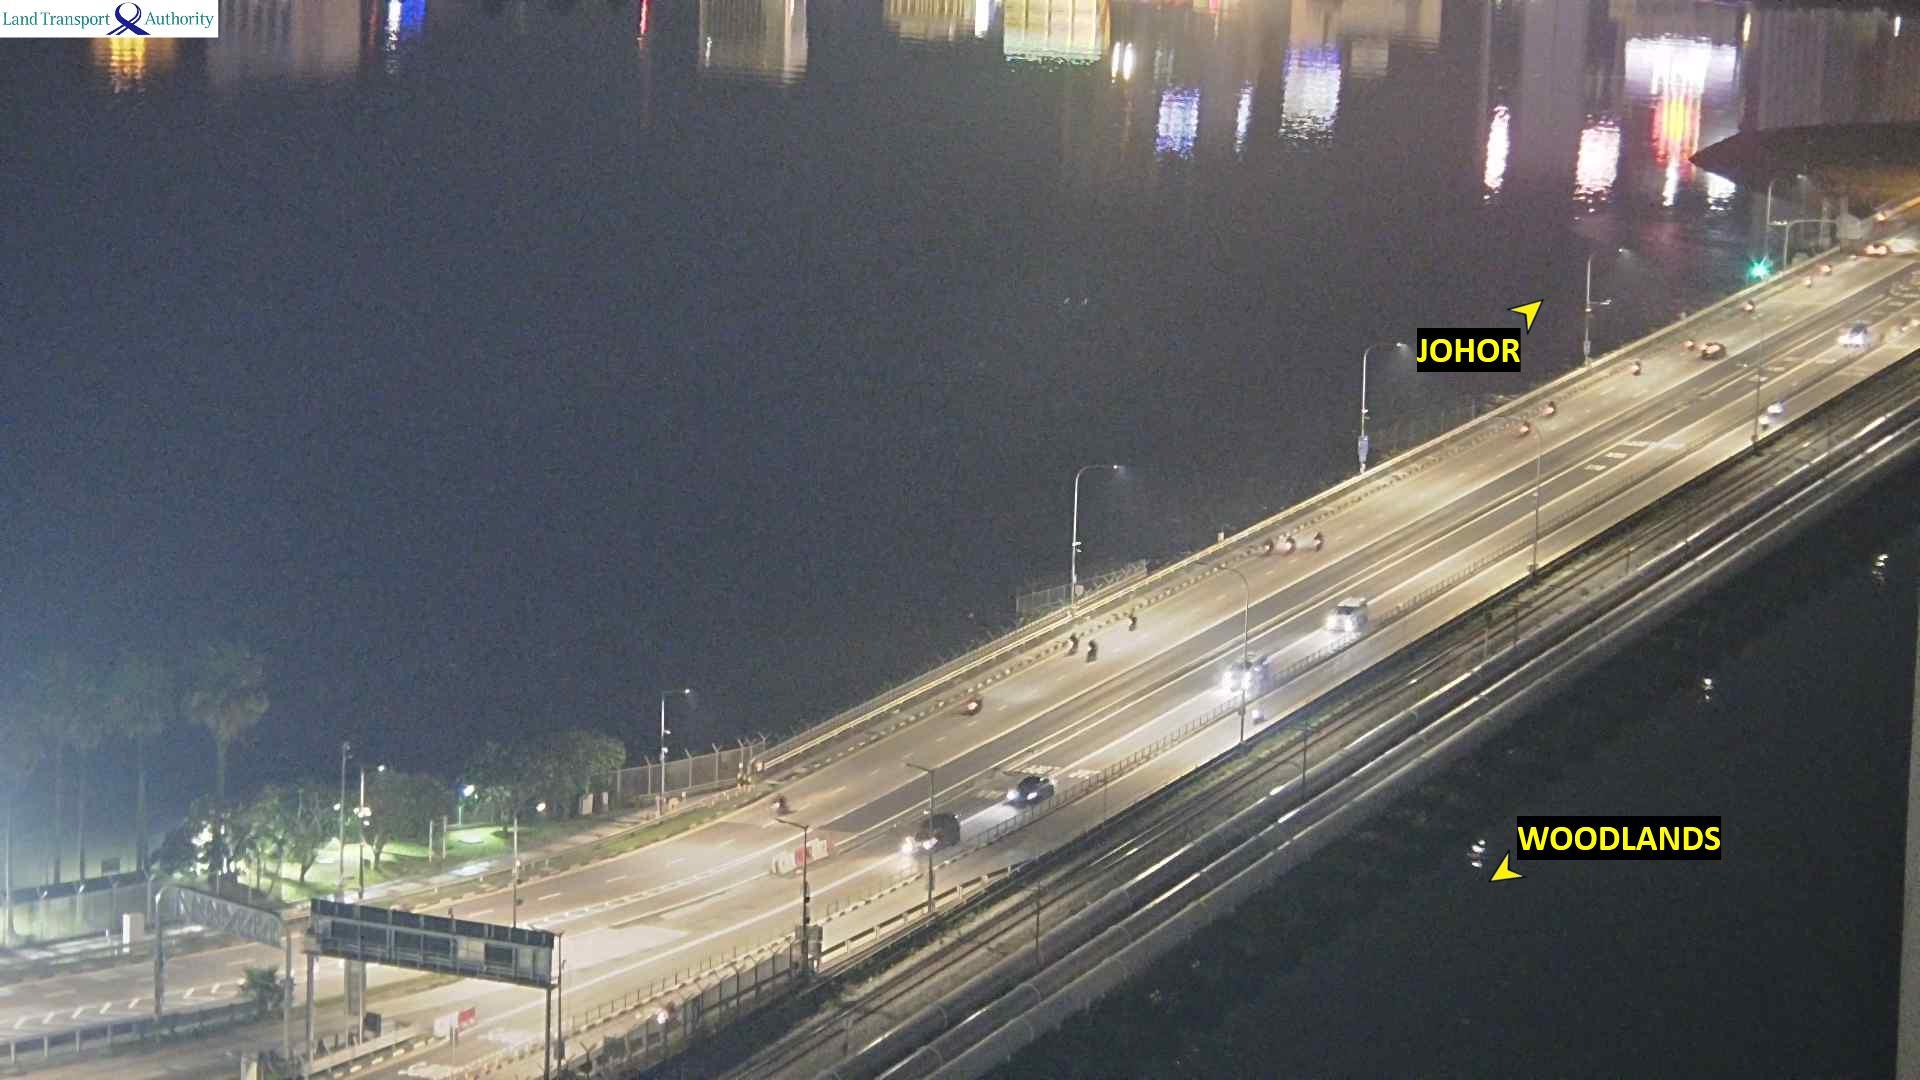vehicle-causeway-johor: (1702, 342, 1727, 357), (967, 695, 984, 716), (774, 794, 791, 814), (1064, 634, 1080, 654), (1865, 243, 1887, 256), (1543, 400, 1557, 418), (1284, 535, 1298, 554), (1088, 638, 1098, 661), (1126, 613, 1138, 632), (1312, 531, 1324, 549), (1801, 273, 1813, 290), (1520, 419, 1531, 435), (1631, 360, 1642, 376), (1745, 299, 1756, 313), (1822, 264, 1834, 276), (1683, 339, 1693, 351), (1266, 538, 1274, 553)
vehicle-causeway-singapore: (906, 815, 960, 853), (1221, 654, 1269, 690), (1328, 597, 1367, 632), (1009, 777, 1052, 803), (1842, 326, 1870, 349), (1251, 703, 1265, 720), (1768, 401, 1784, 414), (1760, 414, 1768, 427)
